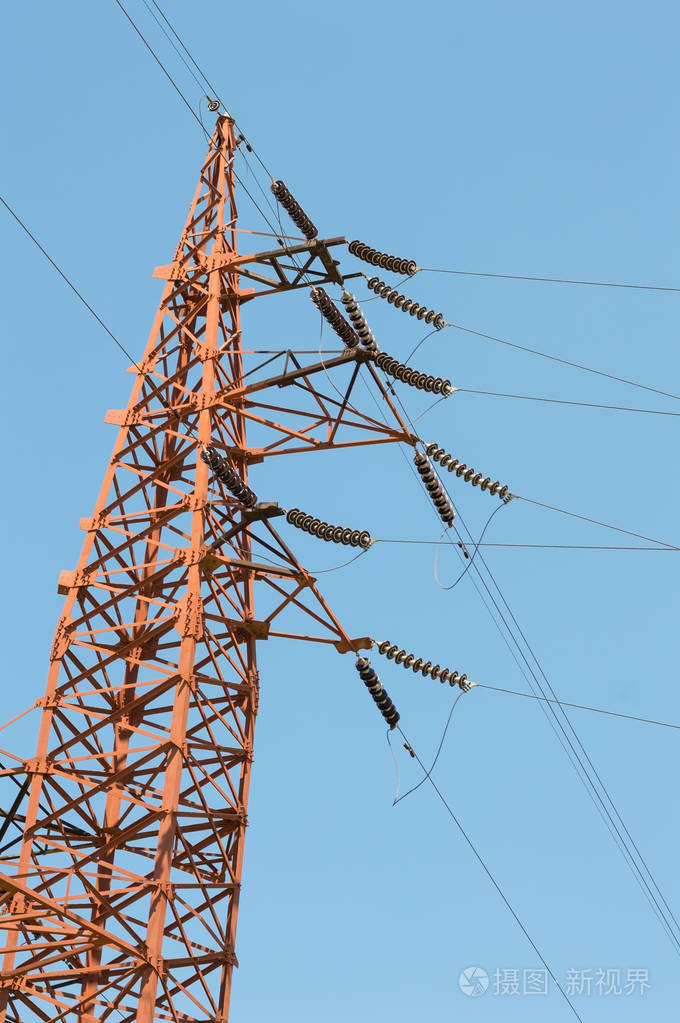insulator: (422, 439, 512, 499), (377, 639, 467, 688), (367, 278, 443, 330), (195, 448, 259, 507), (284, 508, 368, 551), (303, 288, 366, 344), (372, 353, 450, 396), (414, 454, 455, 528), (349, 237, 416, 274), (274, 179, 316, 235), (357, 659, 393, 722)
